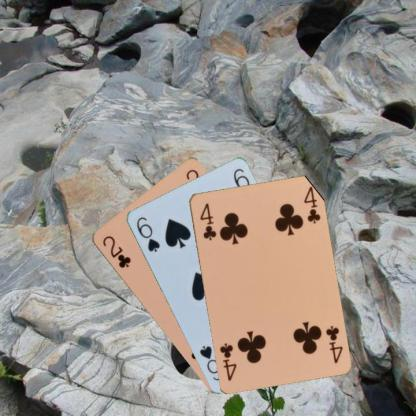2c: (100, 233, 132, 270)
4c: (322, 323, 344, 365), (197, 200, 217, 241)
6s: (134, 214, 161, 253)
